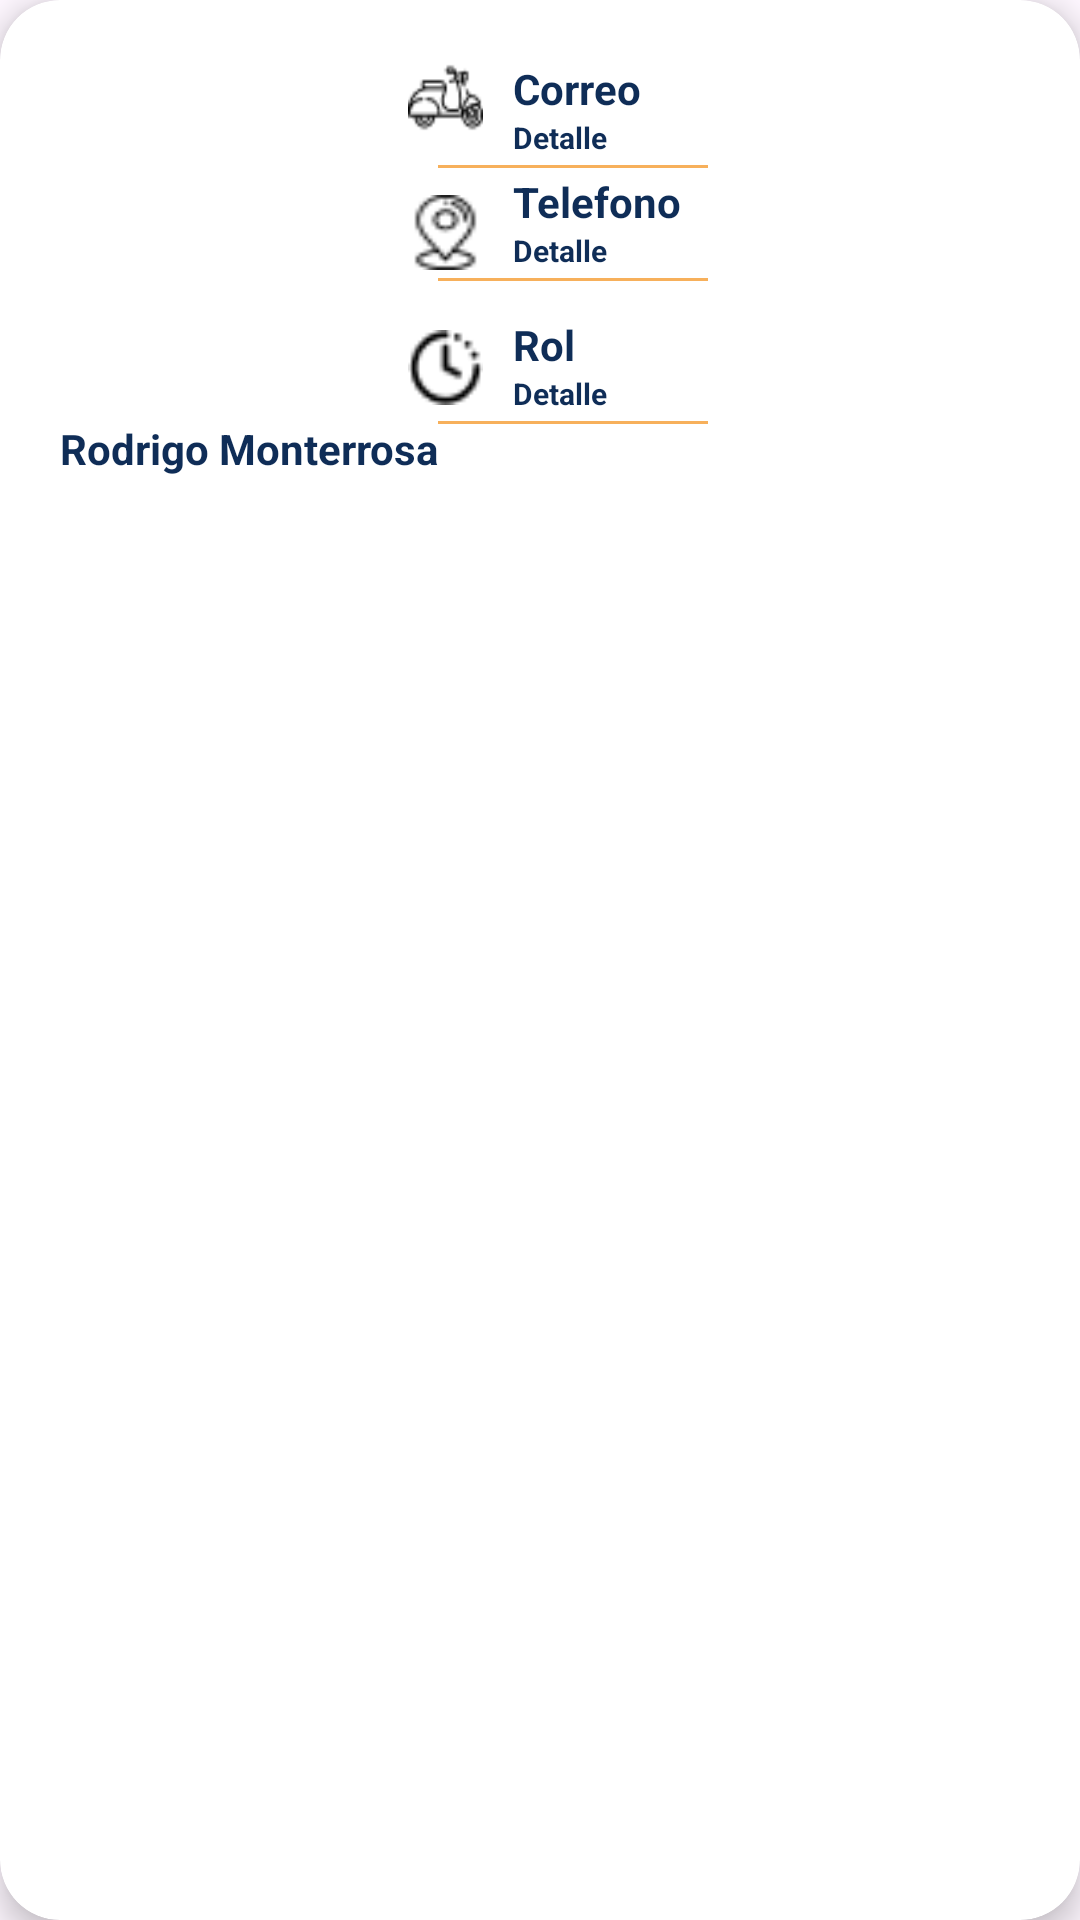

Icon click points for this 1080w x 1920h phone screenshot, format [x,y]:
hora: [445,367]
moto: [445,97]
ubicacion: [445,232]
